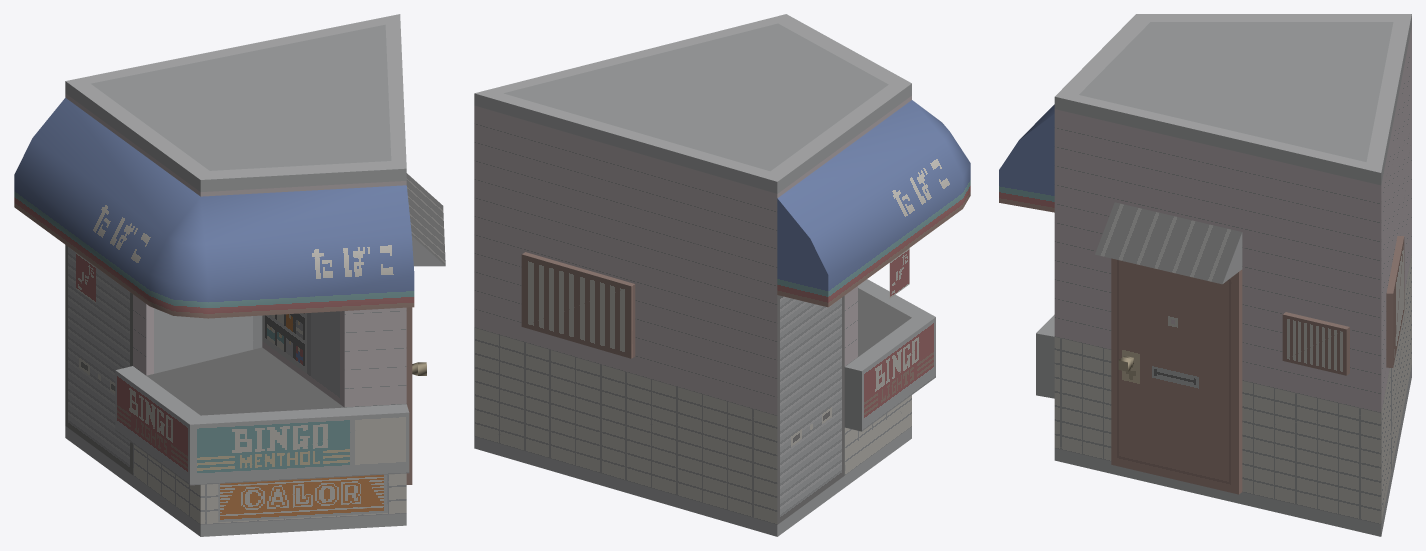
File: 0127_Corner_Store.glb
The picture shows the model from 3 angles, left to right: view 1: azimuth 30°, elevation 25°; view 2: azimuth 150°, elevation 25°; view 3: azimuth 270°, elevation 25°; orthographic projection. The views are drawn at different scales.
Parts seen in each view (by area): view 1: part_0; view 2: part_0; view 3: part_0.
Part boxes in pixels (bbox=[...]): part_0: bbox=[14, 14, 445, 536]; part_0: bbox=[474, 14, 970, 536]; part_0: bbox=[999, 14, 1411, 536].
Bounding box in the file's own units: 3.2 × 2.94 × 3.02.
1 material, 1 textured.
